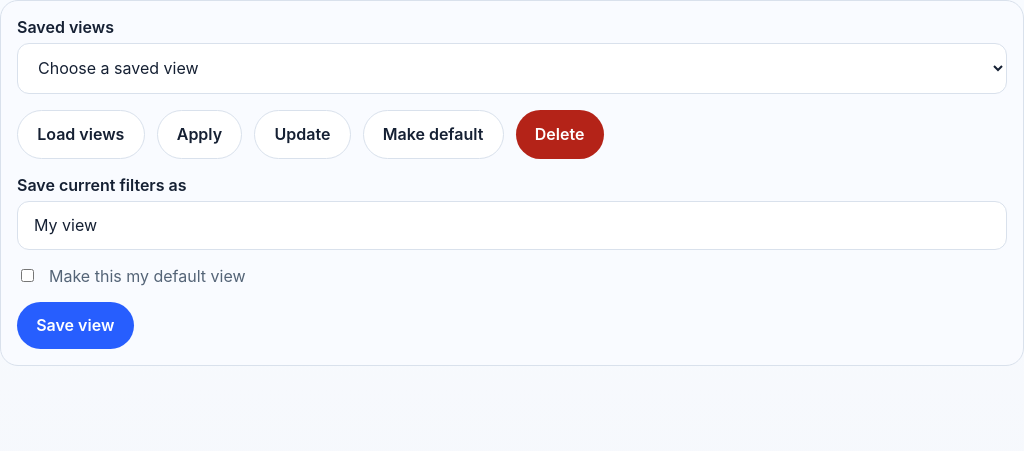
Scenario: SavedViews › serializes mutations and preserves successful-write status when reconciliation fails
Replace the text in the field labelled "Save current filters as" with "Pilot": (512,225) [17,201,1007,250]
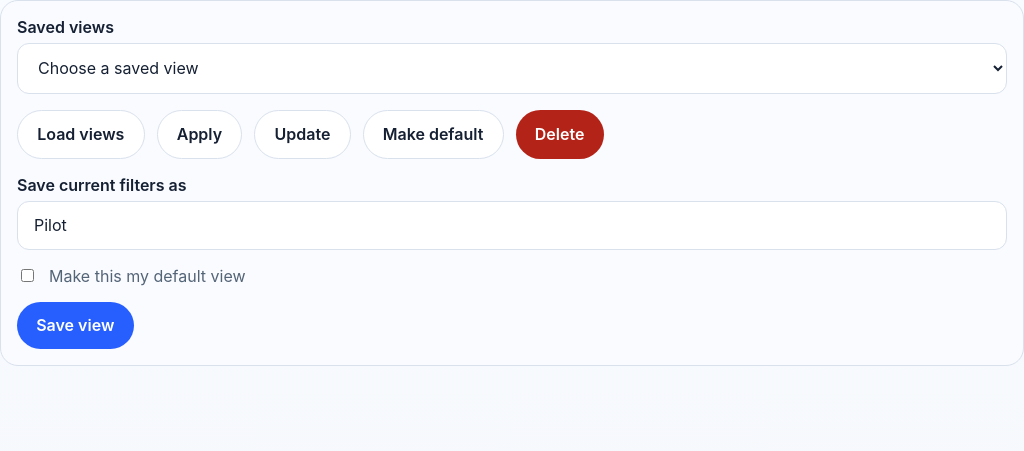
Click the button "Save view": (75,325) [17,302,134,349]
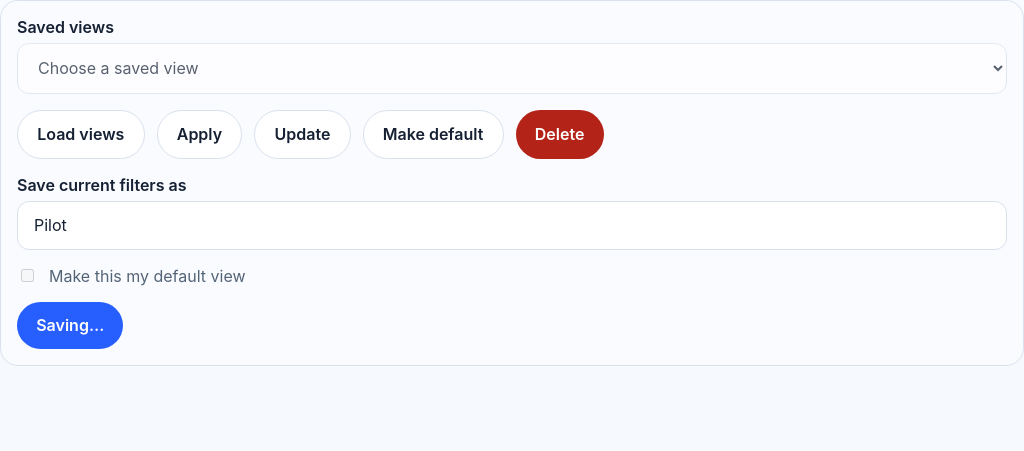
Click the button named "Save view": (70,325) [17,302,123,349]
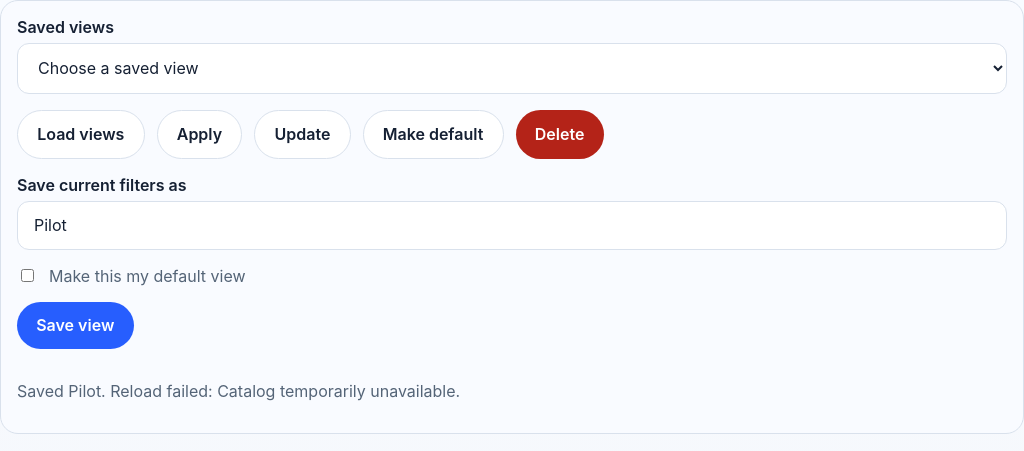
expect the text "Saved Pilot. Reload failed: Catalog temporarily unavailable." is shown: met, box [17,381,460,401]
expect the button "Save view" is enabled: met, box [17,302,134,349]
